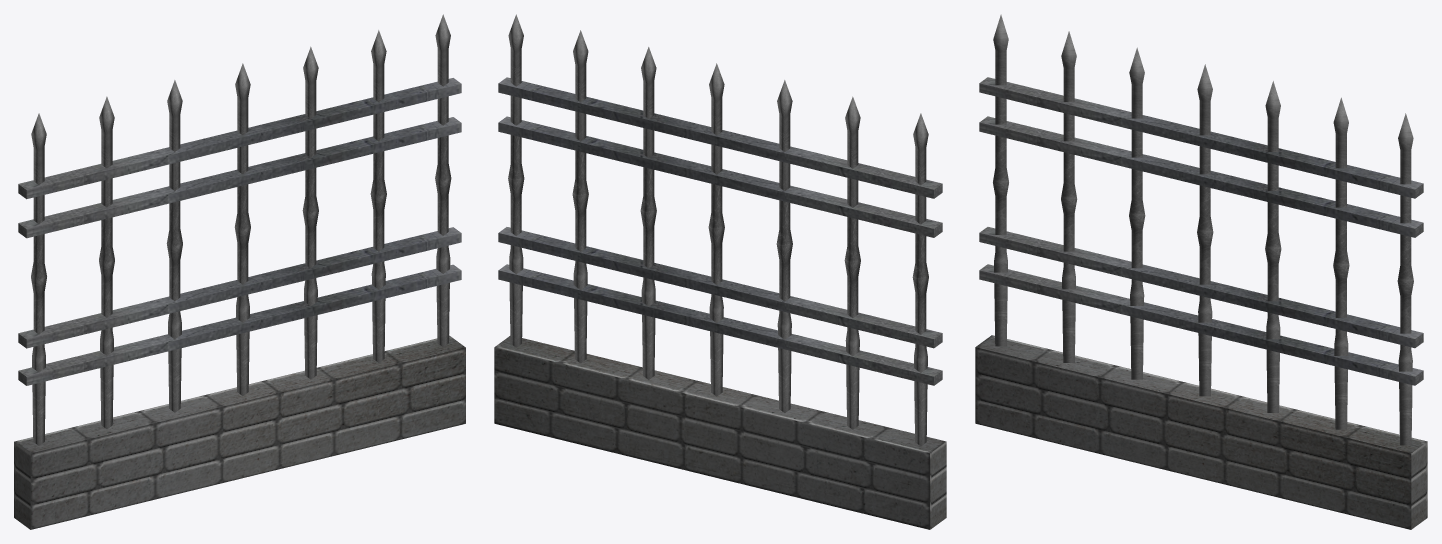
The model's file is fence1.FBX.
3 views of the same model, side by side, from view 1: azimuth 30°, elevation 25°; view 2: azimuth 150°, elevation 25°; view 3: azimuth 330°, elevation 25° (orthographic).
Parts seen in each view (by area): view 1: fence1; view 2: fence1; view 3: fence1.
Part boxes in pixels (left/top/right/bottom): fence1: left=14, top=14, right=465, bottom=529; fence1: left=494, top=14, right=946, bottom=529; fence1: left=975, top=14, right=1427, bottom=529.
Size of the model in its own units: 158 by 141 by 10.36.
